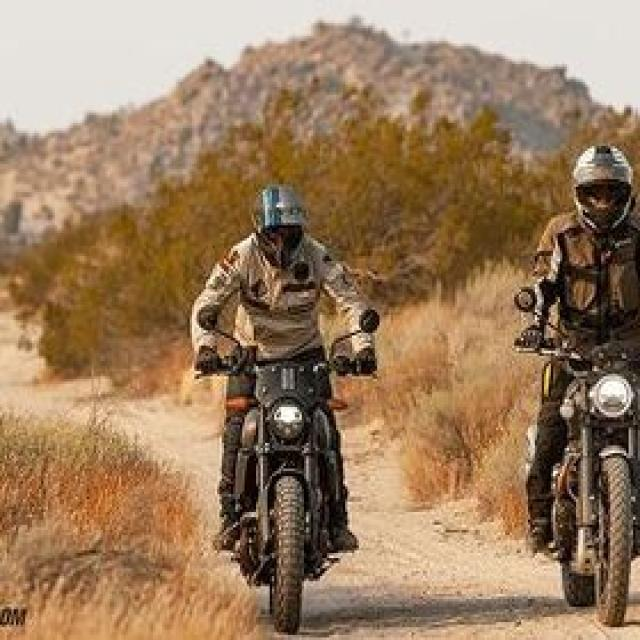motorcycle: (191, 185, 379, 632), (515, 144, 640, 625)
